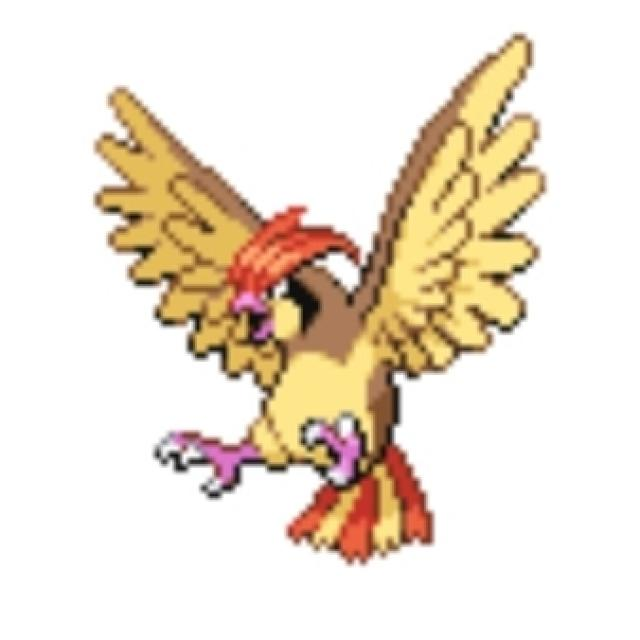Pidgeotto: (156, 116, 492, 532)
